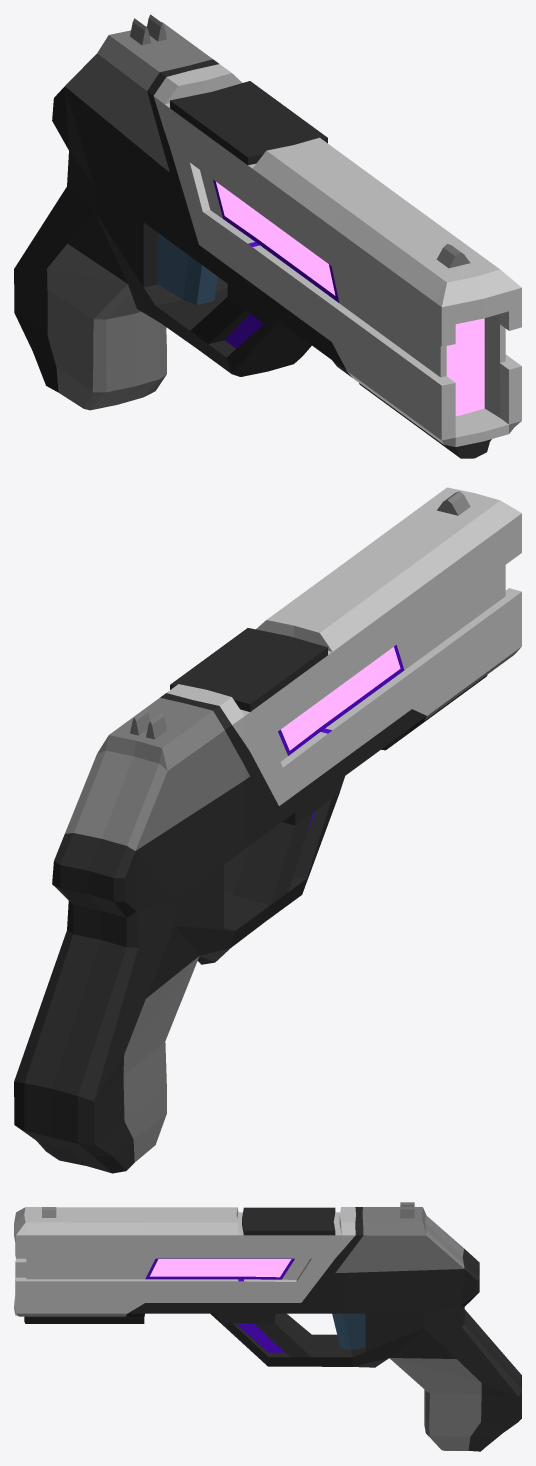
File: Gun.fbx
The picture shows the model from 3 angles, top to bottom: view 1: azimuth 30°, elevation 25°; view 2: azimuth 150°, elevation 25°; view 3: azimuth 270°, elevation 25°; orthographic projection. The views are drawn at different scales.
Visible parts, largest first — view 1: Gun; view 2: Gun; view 3: Gun.
Part boxes in pixels (x1=…): Gun: x1=14, y1=14, x2=521, y2=458; Gun: x1=14, y1=487, x2=521, y2=1173; Gun: x1=14, y1=1202, x2=521, y2=1451.
Bounding box in the file's own units: 0.0379 × 0.1834 × 0.3536.
